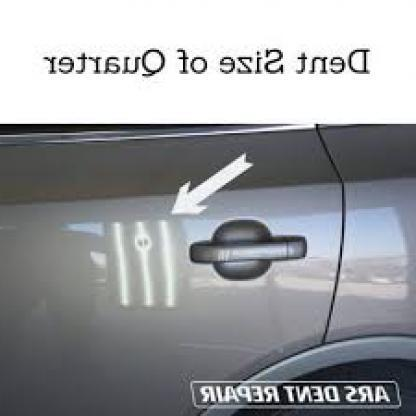dent: (127, 230, 160, 260)
